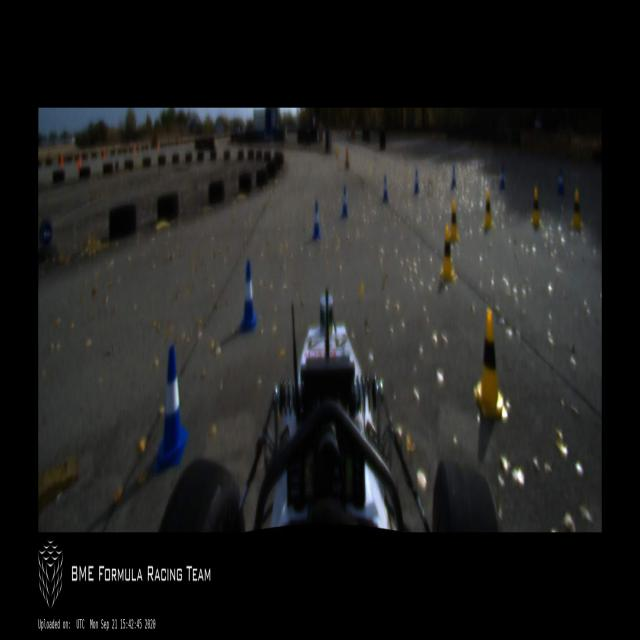blue_cone: (152, 346, 189, 474), (239, 262, 257, 330), (311, 202, 321, 238), (341, 188, 348, 215), (557, 168, 564, 195), (382, 174, 388, 201), (413, 168, 419, 192), (451, 166, 457, 188), (500, 166, 505, 188)
yellow_cone: (473, 308, 506, 420), (440, 225, 456, 283), (530, 187, 542, 225), (570, 190, 582, 228), (448, 201, 459, 241), (483, 190, 493, 228)
